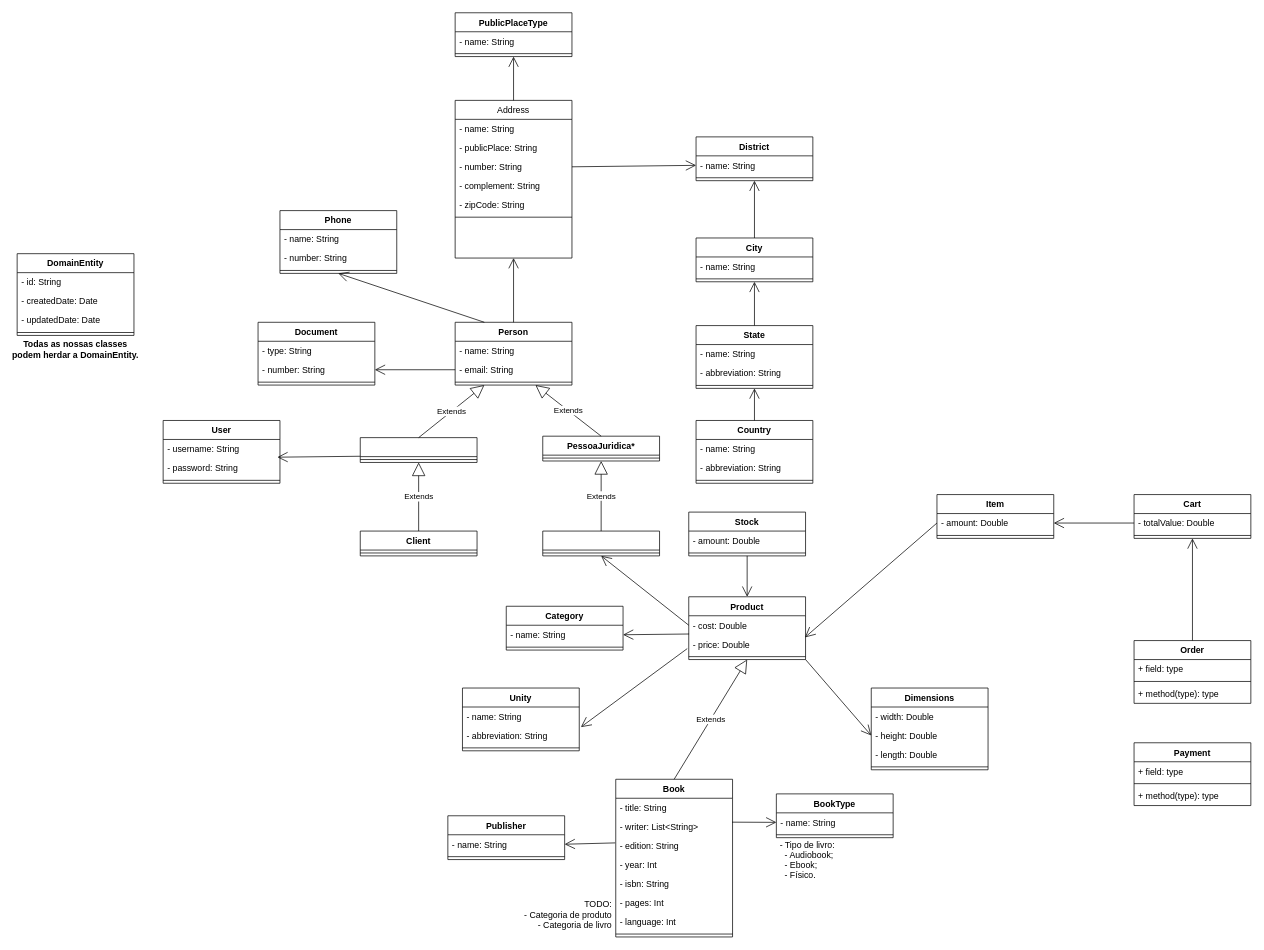
This 1264x950 diagram has some shape labels left out. Here are the shapes that lost their labels. From the top down, the centre of each, then its label:
At [418,449]: "PessoaFisica*".
At [601,543]: "Vendor".
